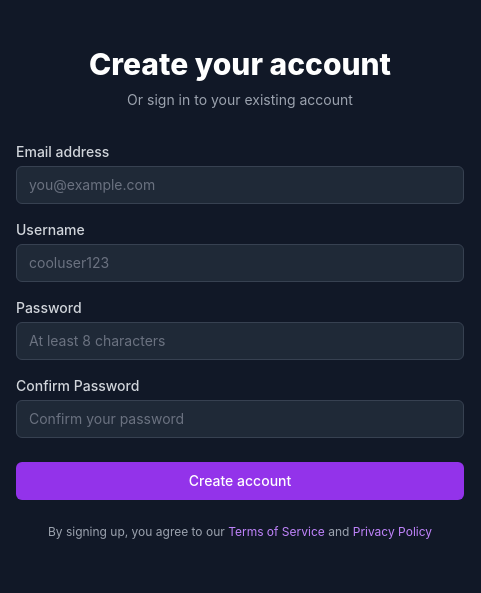
SignUp Component › displays error message on registration failure
This screenshot has width=481, height=593.
In the field with placeholder "you@example.com": coordinates (240, 185) [16, 166, 464, 204], type "test@example.com"
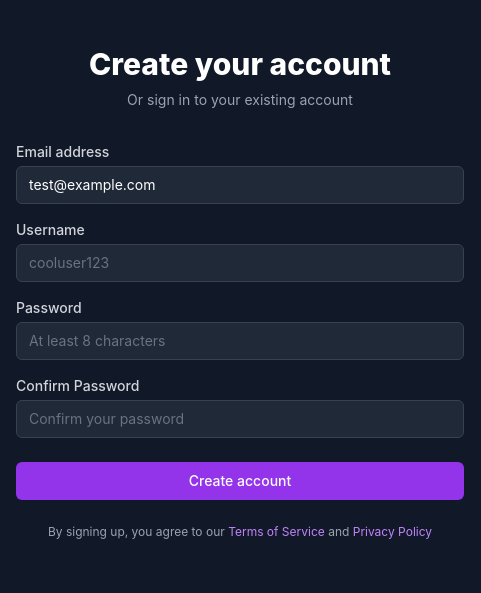
In the field with placeholder "cooluser123": coordinates (240, 263) [16, 244, 464, 282], type "existinguser"
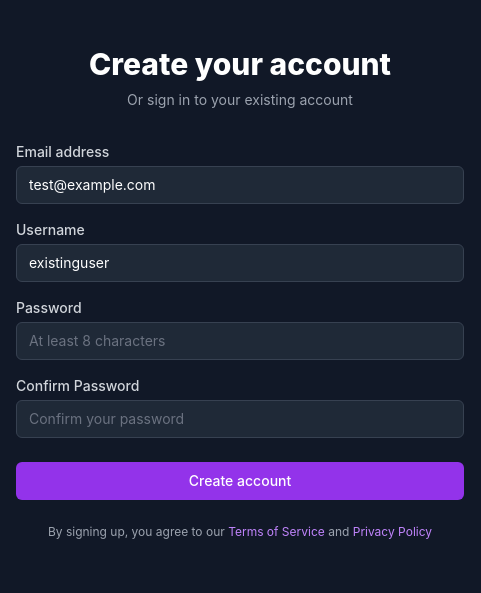
In the password field with placeholder "At least 8 characters": coordinates (240, 341) [16, 322, 464, 360], type "password123"
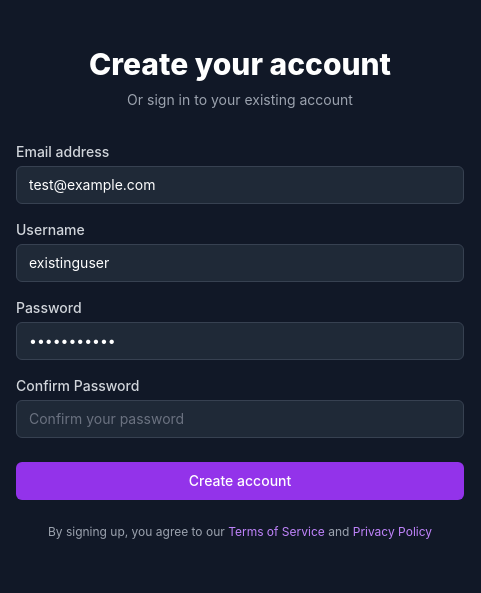
In the password field with placeholder "Confirm your password": coordinates (240, 419) [16, 400, 464, 438], type "password123"
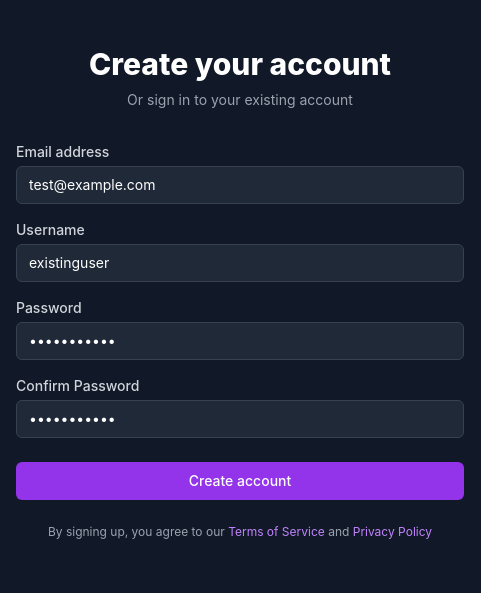
Click the button "Create account": coordinates (240, 481) [16, 462, 464, 500]
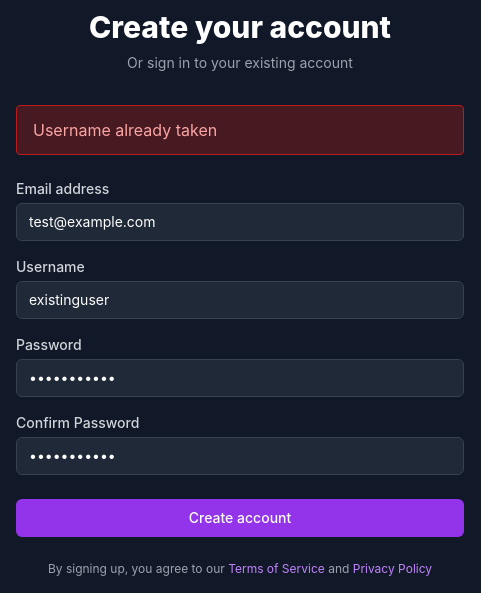
Check: the text "Username already taken" is shown, box [16, 105, 464, 155]
